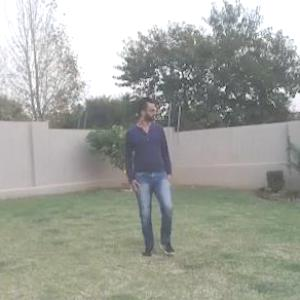follow: (125, 85, 176, 257)
